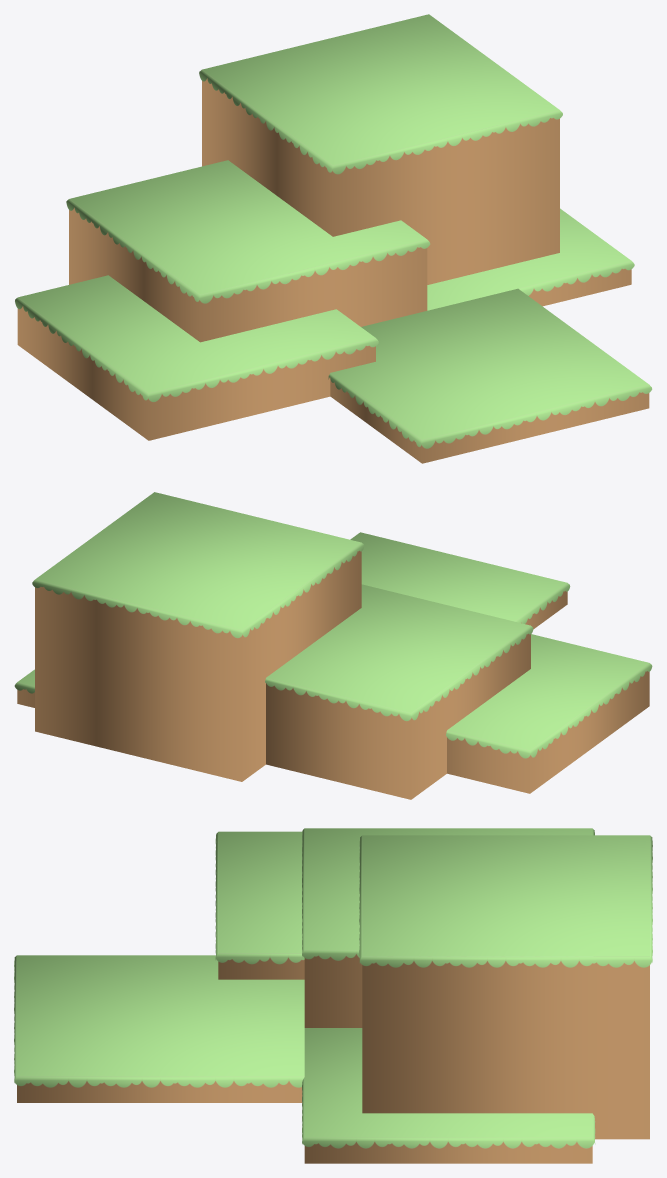
Rendered from mechanics_scenario.glb.
The picture shows the model from 3 angles, top to bottom: view 1: azimuth 30°, elevation 25°; view 2: azimuth 150°, elevation 25°; view 3: azimuth 270°, elevation 25°; orthographic projection. The views are drawn at different scales.
Visible parts, largest first — view 1: FloorVisuals.003, FloorVisuals.002, FloorVisuals, FloorVisuals.001, FloorVisuals.004; view 2: FloorVisuals.003, FloorVisuals.002, FloorVisuals.001, FloorVisuals, FloorVisuals.004; view 3: FloorVisuals.003, FloorVisuals, FloorVisuals.004, FloorVisuals.002, FloorVisuals.001.
Part boxes in pixels (x1,y1,x2,y2): FloorVisuals.003: [199, 14, 562, 284]; FloorVisuals.002: [66, 160, 430, 342]; FloorVisuals: [328, 288, 652, 463]; FloorVisuals.001: [15, 275, 378, 440]; FloorVisuals.004: [427, 208, 634, 310]; FloorVisuals.003: [32, 492, 364, 781]; FloorVisuals.002: [265, 584, 533, 799]; FloorVisuals.001: [446, 634, 652, 793]; FloorVisuals: [350, 532, 570, 629]; FloorVisuals.004: [14, 669, 34, 707]; FloorVisuals.003: [359, 835, 652, 1139]; FloorVisuals: [14, 955, 304, 1102]; FloorVisuals.004: [302, 1028, 595, 1163]; FloorVisuals.002: [302, 828, 594, 1027]; FloorVisuals.001: [215, 831, 304, 979].
Size of what is drawn, in the model's own units: 23.2 by 7 by 22.2.
Materials: 1 (1 with a texture image).
